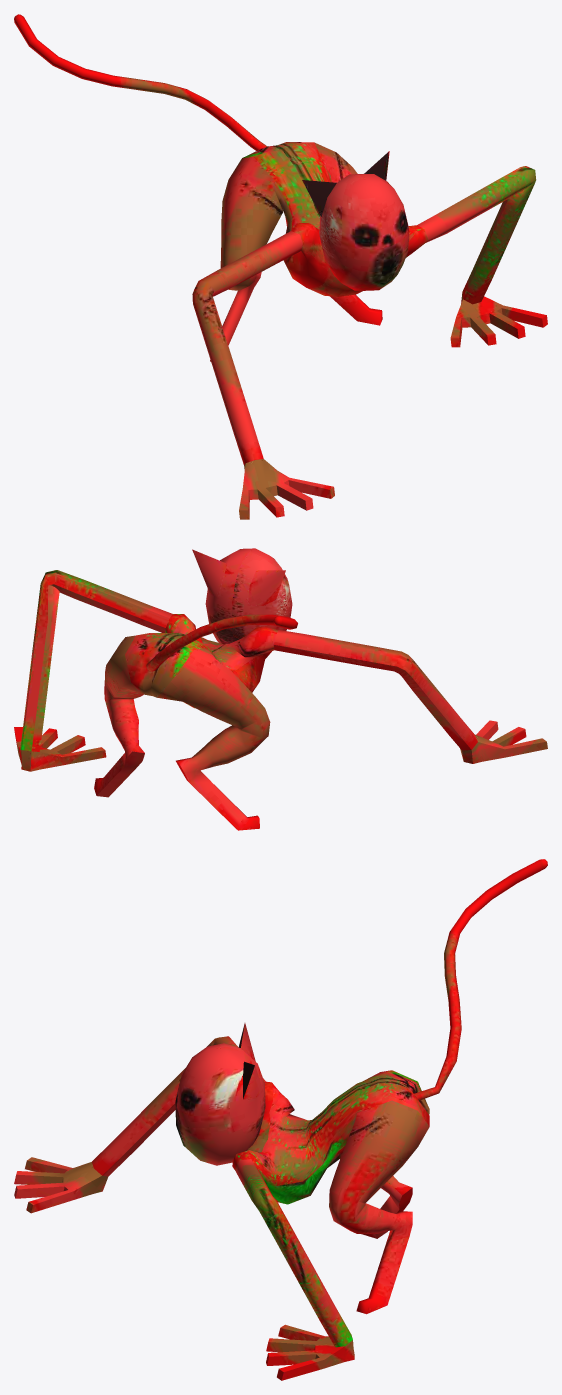
The model's file is SM_Monster_pose_3.fbx.
3 renders of one model, top to bottom at view 1: azimuth 30°, elevation 25°; view 2: azimuth 150°, elevation 25°; view 3: azimuth 270°, elevation 25°, orthographic. The views are drawn at different scales.
Parts seen in each view (by area): view 1: SM_Monster_pose_3; view 2: SM_Monster_pose_3; view 3: SM_Monster_pose_3.
Boxes of the visible parts, x1=… form: SM_Monster_pose_3: x1=14, y1=14, x2=547, y2=519; SM_Monster_pose_3: x1=14, y1=548, x2=547, y2=830; SM_Monster_pose_3: x1=14, y1=859, x2=547, y2=1380.
Bounding box in the file's own units: 361 × 252 × 379.
